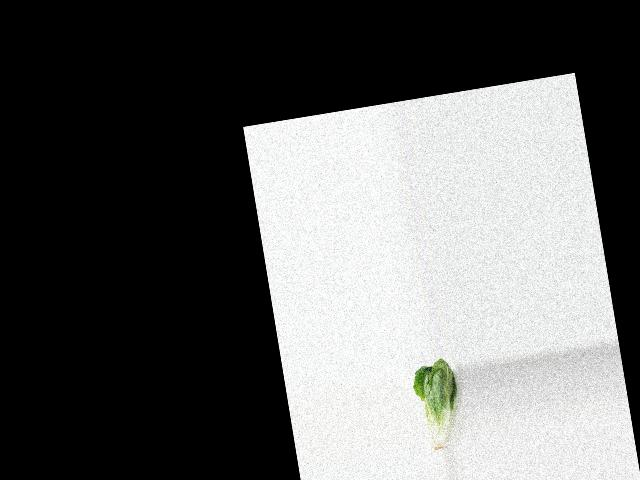lettuce: (408, 356, 469, 456)
